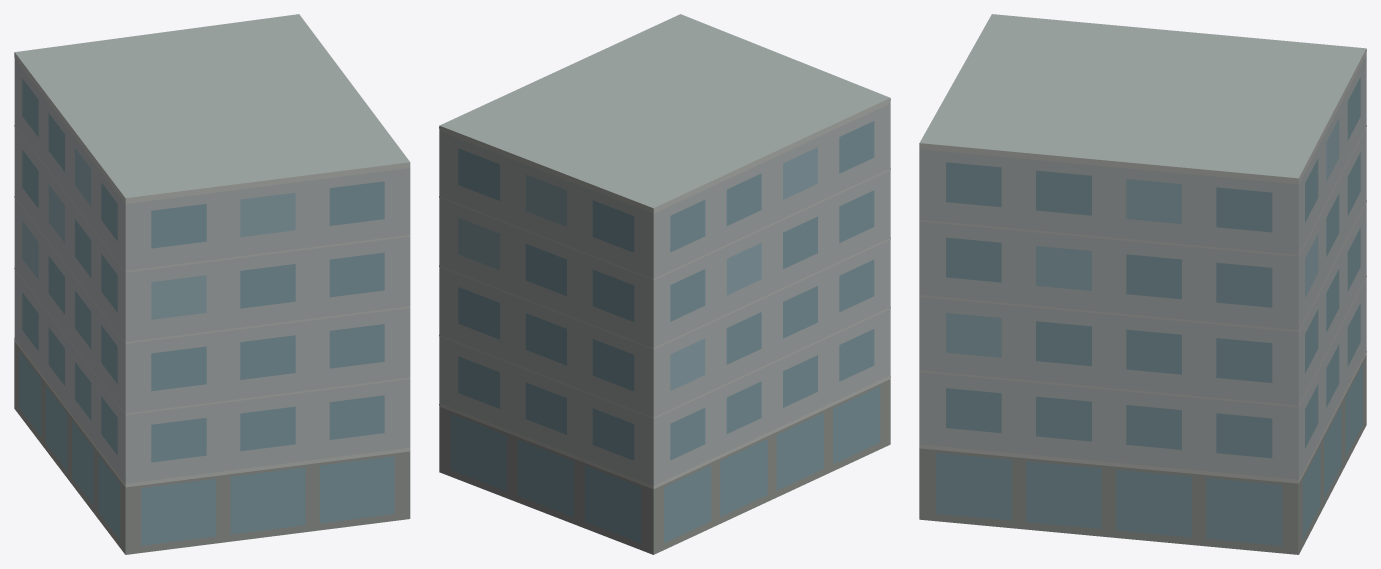
The model's file is survey-upis-32831680.glb.
3 renders of one model, left to right at view 1: azimuth 30°, elevation 25°; view 2: azimuth 150°, elevation 25°; view 3: azimuth 270°, elevation 25°, orthographic. The views are drawn at different scales.
Parts seen in each view (by area): view 1: survey-upis-32831680.tmp; view 2: survey-upis-32831680.tmp; view 3: survey-upis-32831680.tmp.
Part boxes in pixels (x1,y1,x2,y2): survey-upis-32831680.tmp: [14, 14, 410, 554]; survey-upis-32831680.tmp: [439, 14, 890, 554]; survey-upis-32831680.tmp: [919, 14, 1366, 554].
Size of the model in its own units: 14.3 by 15.25 by 16.44.
